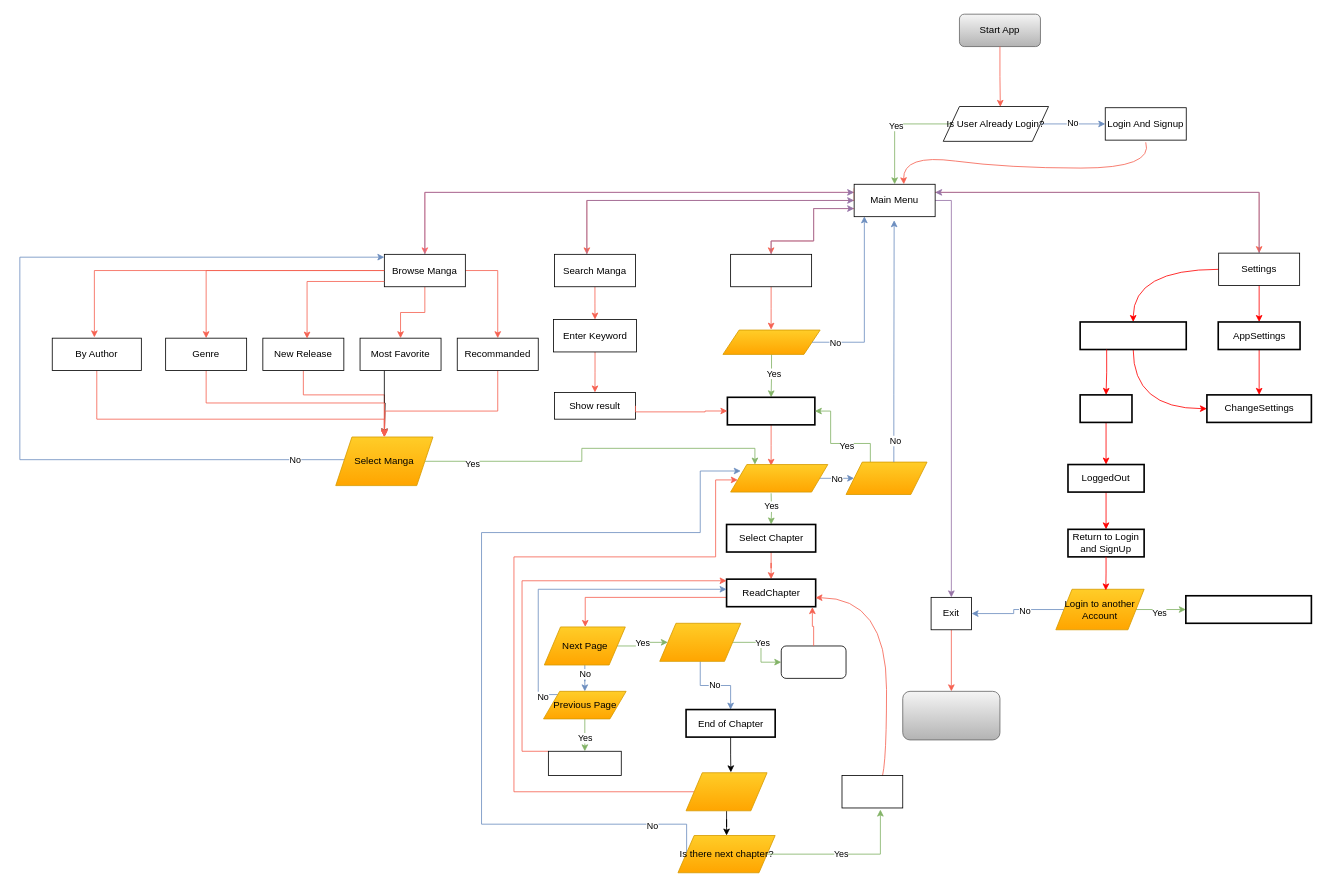
The diagram is 1326 pixels wide and 887 high, and some of its shapes have lost their labels. The centre of each missing label's shape, as x and y in pixels:
AccountSettings: point (1133, 335)
END: point (951, 715)
Favorites: point (771, 270)
Go to next chapter: point (872, 791)
Go to next Page: point (813, 661)
Go to previous page: point (584, 763)
Is there Next Page?: point (700, 641)
Logout: point (1105, 408)
Next Chapter: point (726, 791)
Reselect Manga: point (886, 478)
ReturnToMainMenu: point (1248, 609)
SelectManga: point (770, 410)
View Favorite: point (771, 341)
View Manga: point (779, 478)
